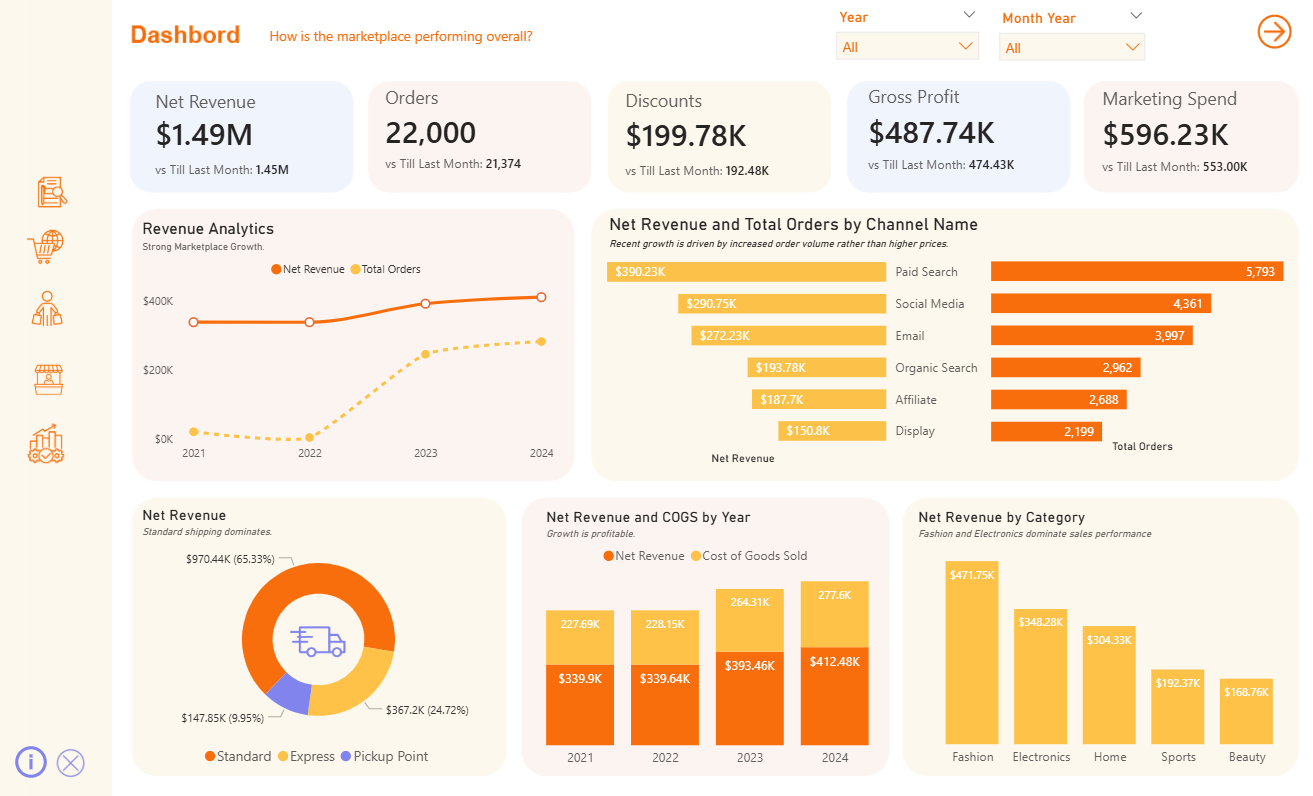

What the dashboard file says about the page in this screenshot:
{"tool":"powerbi","page":{"name":"Dashboard","canvas":[1280,780],"ordinal":0},"visuals":[{"type":"cardVisual","fields":{"Data":["_Measures.Gross Profit"]},"box":[842.3,89.7,194.8,115.5],"z":0},{"type":"cardVisual","fields":{"Data":["_Measures.Total Discount"]},"box":[606.2,89.7,169.1,127.8],"z":1000},{"type":"cardVisual","fields":{"Data":["Sum(Orders_2021_2024.NetRevenue)"]},"box":[148.5,91.8,192.8,121.6],"z":2000},{"type":"barChart","fields":{"Category":["Channels_raw.ChannelName"],"Y":["_Measures.Net Revenue"]},"box":[581.6,234.4,383.2,226.6],"z":3000},{"type":"clusteredColumnChart","title":"Net Revenue by Category","fields":{"Category":["Products_raw.Category"],"Y":["_Measures.Net Revenue"]},"box":[890.7,500,383.5,258.8],"z":4000},{"type":"cardVisual","fields":{"Data":["_Measures.ScaledAdSpendUSD"]},"box":[1070.1,91.8,175.3,115.5],"z":5000},{"type":"lineChart","title":"Revenue Analytics","fields":{"Category":["Calendar.Year"],"Y":["_Measures.Net Revenue"],"Y2":["_Measures.Total Orders"]},"box":[136.1,217.5,410.3,245.4],"z":6000},{"type":"columnChart","title":"Net Revenue and COGS by Year","fields":{"Category":["Calendar.Year"],"Y":["_Measures.Net Revenue","Sum(Orders_2021_2024.CostOfGoodsSold)"]},"box":[528.9,500,323.7,259.8],"z":7000},{"type":"donutChart","title":"Net Revenue ","fields":{"Category":["Orders_2021_2024.ShippingMethod"],"Y":["_Measures.Net Revenue"]},"box":[136,498,353,261],"z":8000},{"type":"cardVisual","fields":{"Data":["_Measures.Total Orders"]},"box":[372.2,91.8,193.8,110.3],"z":9000},{"type":"textbox","box":[259.8,25.8,368,32],"z":10000},{"type":"image","box":[12.4,168,79,49],"z":11000},{"type":"barChart","title":"Net Revenue - The most traffic and revenue comes from paid search channel","fields":{"Category":["Channels_raw.ChannelName"],"Y":["_Measures.Total Orders"]},"box":[961.9,246.1,304.4,203.3],"z":12000},{"type":"image","box":[12.4,216,70,58],"z":13000},{"type":"image","box":[12.4,275,70,58],"z":14000},{"type":"slicer","fields":{"Values":["Calendar.Year"]},"box":[806.3,7.8,158.5,62.2],"z":15000},{"type":"image","box":[12.4,346,79,58],"z":16000},{"type":"slicer","fields":{"Values":["Calendar.Month Year"]},"box":[964.9,8.8,162.4,59.3],"z":17000},{"type":"image","box":[12.4,412,70,51],"z":18000},{"type":"image","box":[284.9,602.5,53.6,53.6],"z":19000},{"type":"shape","box":[0,0,26.8,780.4],"z":20000},{"type":"image","box":[1205.2,0,75.3,70.1],"z":21000},{"type":"actionButton","box":[12.6,725.6,44.7,40.9],"z":22000},{"type":"textbox","box":[590.4,207.2,640,68.1],"z":24000},{"type":"image","box":[39.4,727.2,63.4,39.4],"z":25000}]}

Visuals, with their boxes on the page's 1280x780 design canvas (x1, y1, x2, y2). These are canvas units, not pixel positions in the 1313x796 screenshot, which may show the page scaled, cropped or inside an application window:
cardVisual - _Measures.Gross Profit: pyautogui.locateOnScreen(842, 90, 1037, 205)
cardVisual - _Measures.Total Discount: pyautogui.locateOnScreen(606, 90, 775, 218)
cardVisual - Sum(Orders_2021_2024.NetRevenue): pyautogui.locateOnScreen(148, 92, 341, 213)
barChart - Channels_raw.ChannelName x _Measures.Net Revenue: pyautogui.locateOnScreen(582, 234, 965, 461)
"Net Revenue by Category" clusteredColumnChart: pyautogui.locateOnScreen(891, 500, 1274, 759)
cardVisual - _Measures.ScaledAdSpendUSD: pyautogui.locateOnScreen(1070, 92, 1245, 207)
"Revenue Analytics" lineChart: pyautogui.locateOnScreen(136, 218, 546, 463)
"Net Revenue and COGS by Year" columnChart: pyautogui.locateOnScreen(529, 500, 853, 760)
"Net Revenue " donutChart: pyautogui.locateOnScreen(136, 498, 489, 759)
cardVisual - _Measures.Total Orders: pyautogui.locateOnScreen(372, 92, 566, 202)
textbox: pyautogui.locateOnScreen(260, 26, 628, 58)
image: pyautogui.locateOnScreen(12, 168, 91, 217)
"Net Revenue - The most traffic and revenue comes from paid search channel" barChart: pyautogui.locateOnScreen(962, 246, 1266, 449)
image: pyautogui.locateOnScreen(12, 216, 82, 274)
image: pyautogui.locateOnScreen(12, 275, 82, 333)
slicer - Calendar.Year: pyautogui.locateOnScreen(806, 8, 965, 70)
image: pyautogui.locateOnScreen(12, 346, 91, 404)
slicer - Calendar.Month Year: pyautogui.locateOnScreen(965, 9, 1127, 68)
image: pyautogui.locateOnScreen(12, 412, 82, 463)
image: pyautogui.locateOnScreen(285, 602, 338, 656)
shape: pyautogui.locateOnScreen(0, 0, 27, 780)
image: pyautogui.locateOnScreen(1205, 0, 1280, 70)
actionButton: pyautogui.locateOnScreen(13, 726, 57, 766)
textbox: pyautogui.locateOnScreen(590, 207, 1230, 275)
image: pyautogui.locateOnScreen(39, 727, 103, 767)
